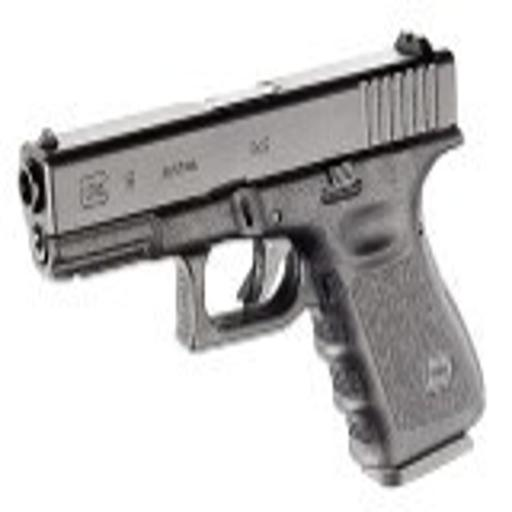Handgun: (5, 28, 488, 489)
